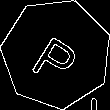P_NE: (27, 22, 86, 85)
